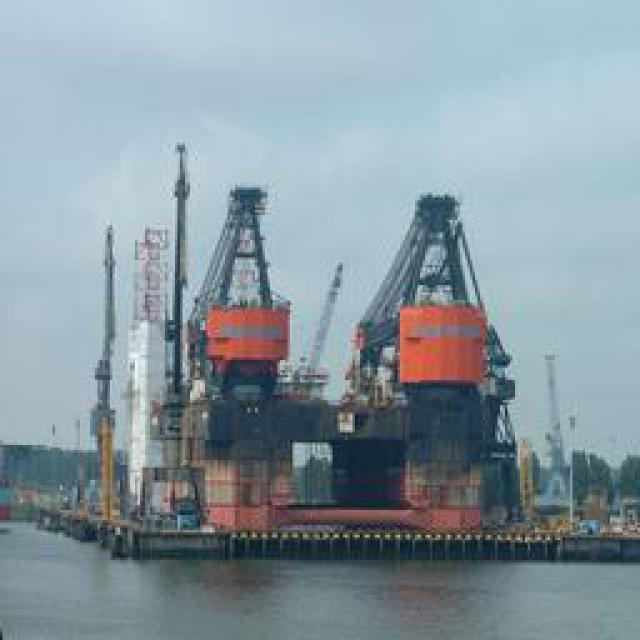Ship: (61, 175, 594, 545)
